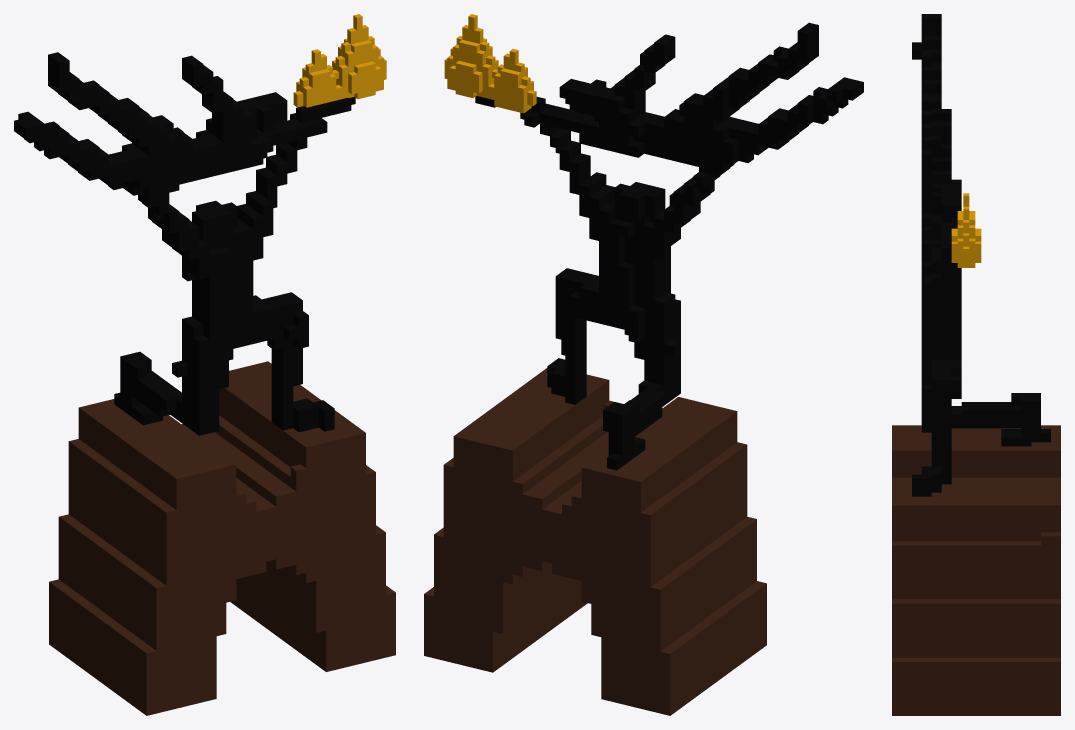
File: prometeo.fbx
The picture shows the model from 3 angles, left to right: view 1: azimuth 30°, elevation 25°; view 2: azimuth 150°, elevation 25°; view 3: azimuth 270°, elevation 25°; orthographic projection. The views are drawn at different scales.
Parts seen in each view (by area): view 1: Box004, Cone; view 2: Box004, Cone; view 3: Box004, Cone.
Boxes of the visible parts, box(x1,y1,x2,y2) form: Box004: box(14, 52, 395, 715); Cone: box(293, 14, 386, 107); Box004: box(424, 22, 863, 715); Cone: box(444, 14, 536, 113); Box004: box(892, 14, 1060, 715); Cone: box(951, 193, 981, 267).
Bounding box in the file's own units: 1664 × 2673 × 721.
